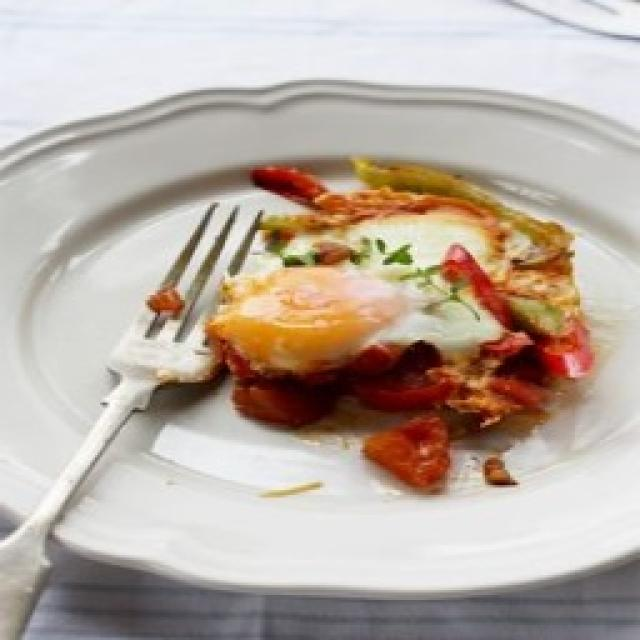Chakchouka: (206, 159, 590, 429)
